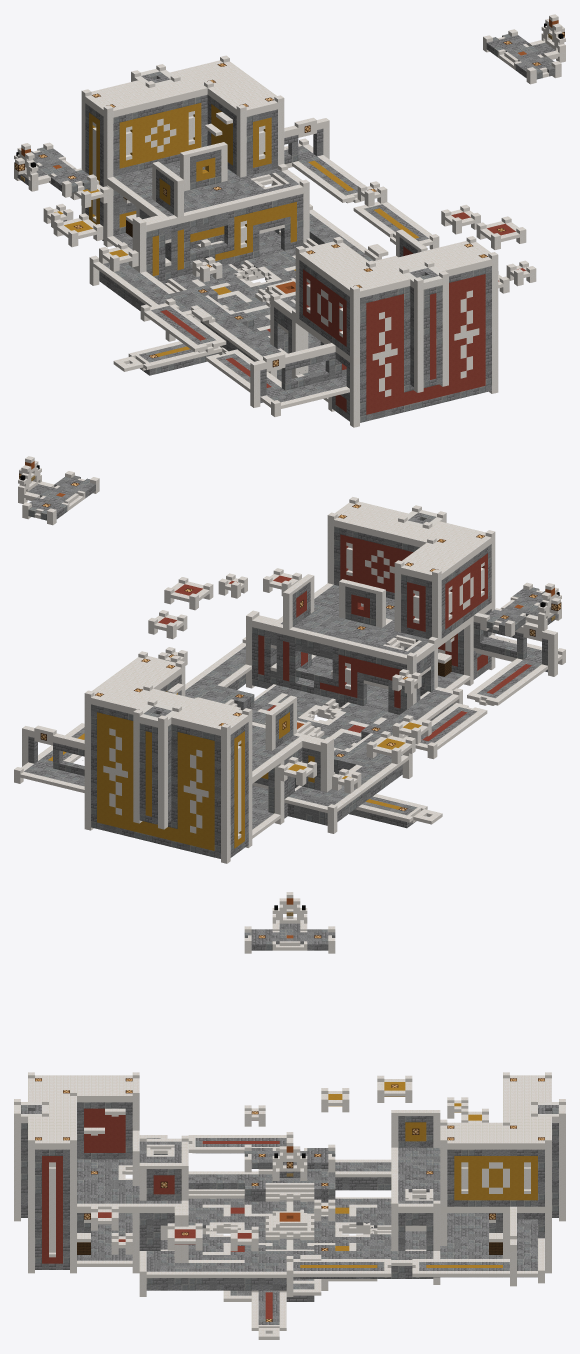
The model's file is minecraft.obj.
3 renders of one model, top to bottom at view 1: azimuth 30°, elevation 25°; view 2: azimuth 150°, elevation 25°; view 3: azimuth 270°, elevation 25°, orthographic. The views are drawn at different scales.
Bounding box in the file's own units: 87 × 42 × 79.
